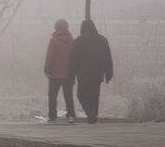person: (68, 18, 114, 123), (43, 18, 77, 122)
